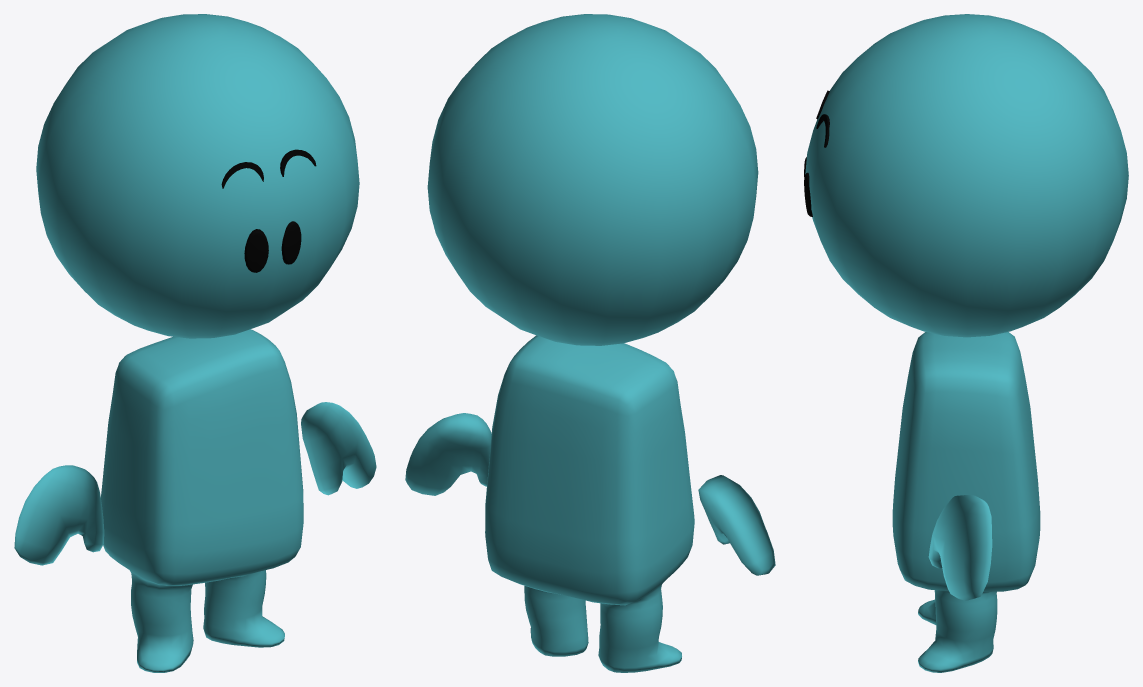
Rendered from xiaoren.fbx.
The picture shows the model from 3 angles, left to right: view 1: azimuth 30°, elevation 25°; view 2: azimuth 150°, elevation 25°; view 3: azimuth 270°, elevation 25°; orthographic projection. The views are drawn at different scales.
Visible parts, largest first — view 1: xiaoren_tou, xiaoren_shenti, xiaoren_zuoshou, xiaoren_youshou, xiaoren_zuoyan, xiaoren_youyan; view 2: xiaoren_tou, xiaoren_shenti, xiaoren_youshou, xiaoren_zuoshou; view 3: xiaoren_tou, xiaoren_shenti, xiaoren_youshou.
Part boxes in pixels (<box>): xiaoren_tou: <box>36,14,359,338</box>; xiaoren_shenti: <box>101,329,303,672</box>; xiaoren_zuoshou: <box>14,465,104,565</box>; xiaoren_youshou: <box>301,402,376,495</box>; xiaoren_zuoyan: <box>244,229,268,272</box>; xiaoren_youyan: <box>281,221,301,264</box>; xiaoren_tou: <box>427,14,758,345</box>; xiaoren_shenti: <box>485,335,694,672</box>; xiaoren_youshou: <box>405,413,491,495</box>; xiaoren_zuoshou: <box>698,475,775,575</box>; xiaoren_tou: <box>805,14,1128,337</box>; xiaoren_shenti: <box>892,332,1040,672</box>; xiaoren_youshou: <box>928,495,992,600</box>.
Bounding box in the file's own units: 18.07 × 29.56 × 14.25.
